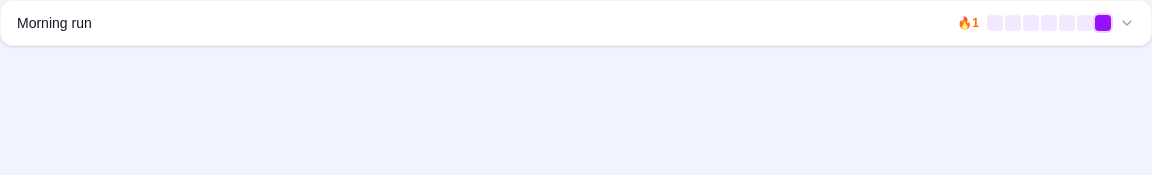
HabitCard › shows completion rate pill when expanded
Click the button named "развернуть": click(1127, 23) [1119,15,1135,31]
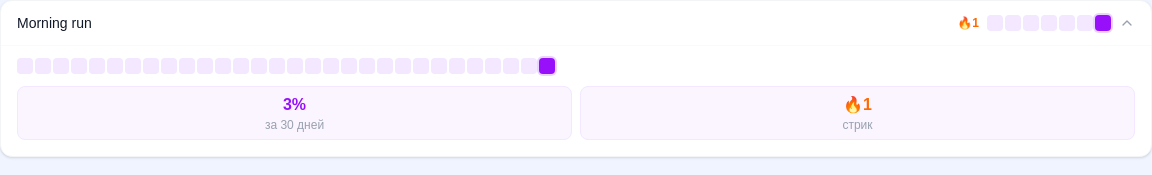
Expected: the element with test id "stat-completion" is shown, [17,86,572,140]
